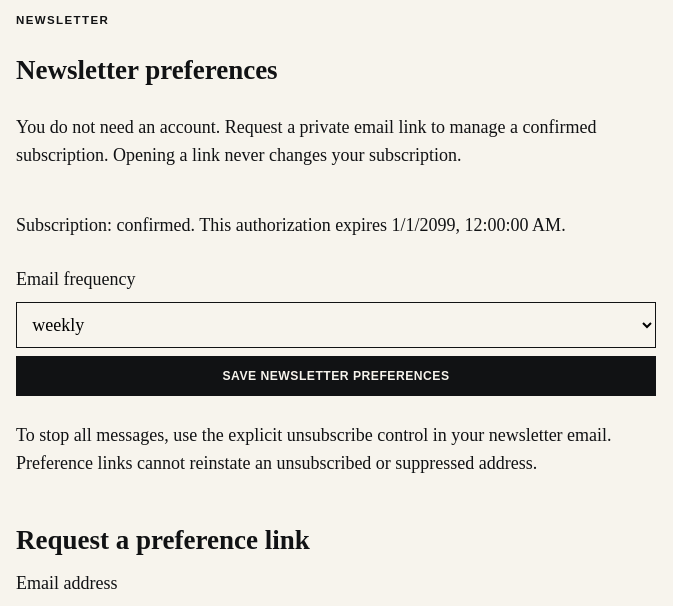
Test: email-only newsletter preferences › reads without mutation, removes the URL token, and requires explicit save
Select "daily" in the dropdown labelled "Email frequency". click: (336, 325)
box: [16,302,656,348]
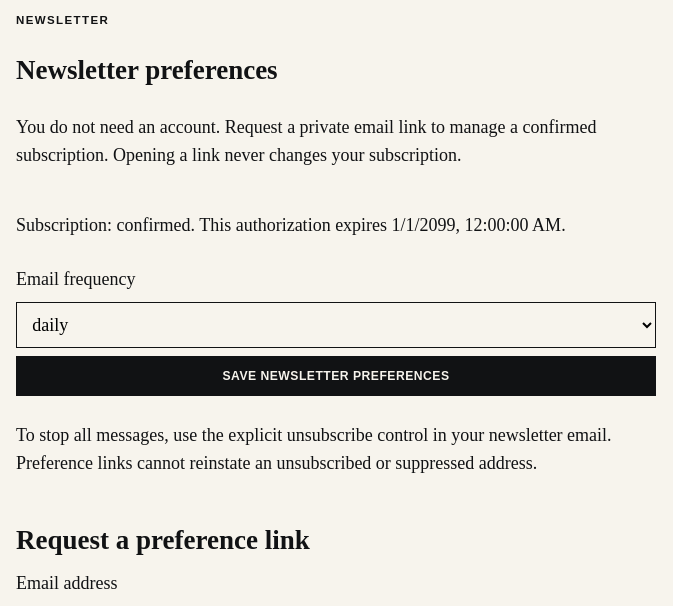
Click the button "Save newsletter preferences". click: (336, 376)
box: [16,356,656,396]
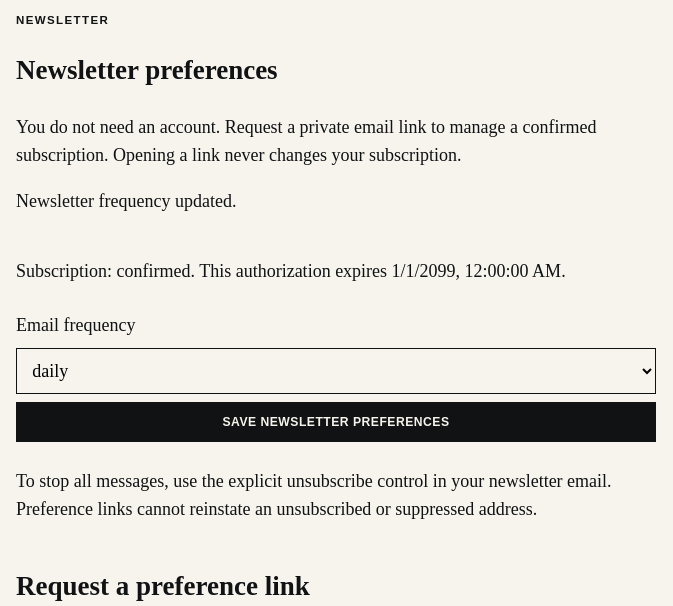
Check: the message shows "frequency updated", box [16,191,236,211]
